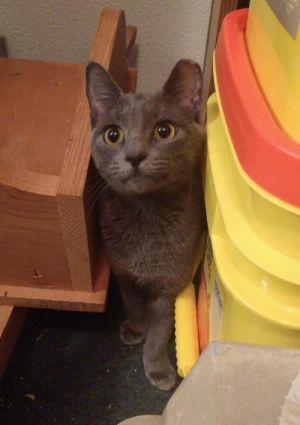rblue: (77, 55, 217, 207)
